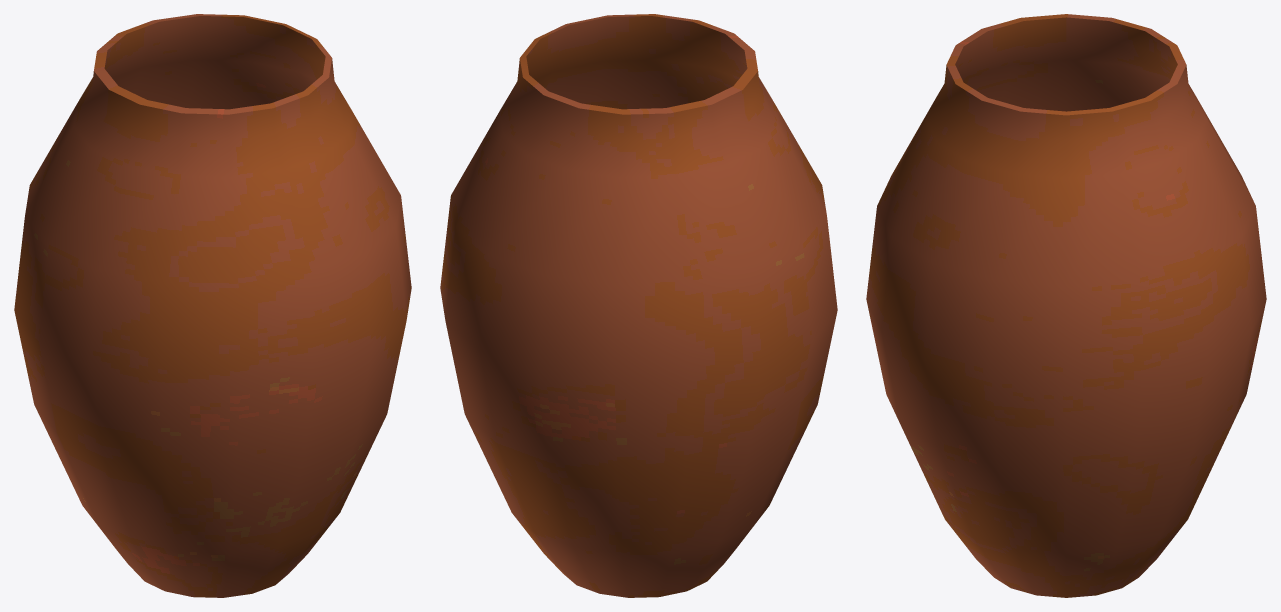
File: pot3.gltf
3 renders of one model, left to right at view 1: azimuth 30°, elevation 25°; view 2: azimuth 150°, elevation 25°; view 3: azimuth 270°, elevation 25°, orthographic.
Visible parts, largest first — view 1: pot1-col; view 2: pot1-col; view 3: pot1-col.
Boxes of the visible parts, x1=… form: pot1-col: x1=14, y1=14, x2=411, y2=597; pot1-col: x1=440, y1=14, x2=837, y2=597; pot1-col: x1=866, y1=14, x2=1266, y2=597.
Bounding box in the file's own units: 0.4494 × 0.6209 × 0.4494.
Materials: 1 (1 with a texture image).
